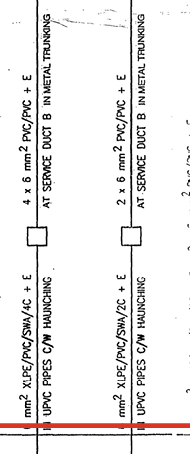Cable Termination Box: (20, 226, 61, 254), (114, 226, 152, 252)
